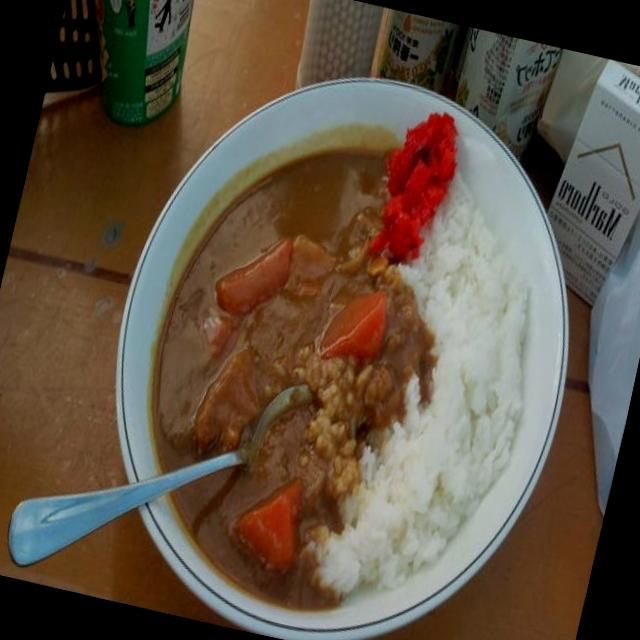Beef Curry: (110, 116, 423, 612)
